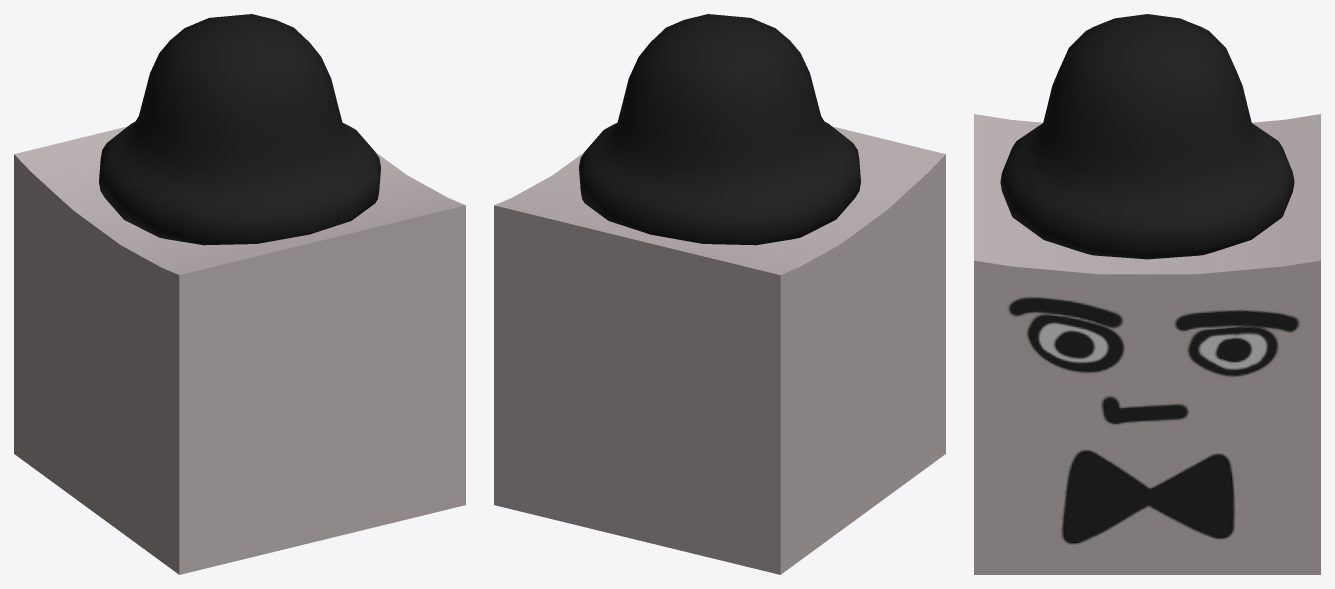
Rendered from gentelman.fbx.
The picture shows the model from 3 angles, left to right: view 1: azimuth 30°, elevation 25°; view 2: azimuth 150°, elevation 25°; view 3: azimuth 270°, elevation 25°; orthographic projection. The views are drawn at different scales.
Parts seen in each view (by area): view 1: Cube; view 2: Cube; view 3: Cube.
Part boxes in pixels (box(x1,y1,x2,y2)): Cube: box(14, 14, 465, 574); Cube: box(494, 14, 945, 574); Cube: box(974, 14, 1320, 574).
Size of the model in its own units: 200 by 303 by 200.
